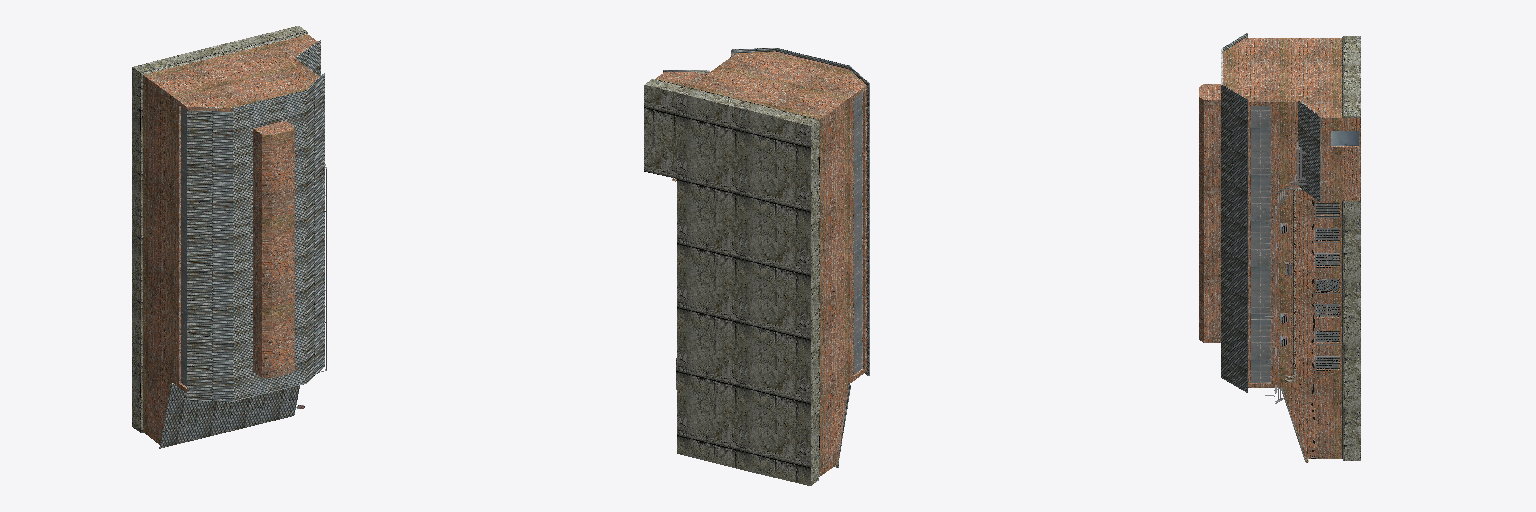
The picture shows the model from 3 angles: view 1: azimuth 30°, elevation 25°; view 2: azimuth 150°, elevation 25°; view 3: azimuth 270°, elevation 25°; orthographic projection.
Visible parts, largest first — view 1: MDL_Box011; view 2: MDL_Box011; view 3: MDL_Box011.
Part boxes in pixels (bbox=[...]): MDL_Box011: bbox=[132, 26, 326, 448]; MDL_Box011: bbox=[644, 48, 869, 485]; MDL_Box011: bbox=[1199, 33, 1360, 462].
Size of the model in its own units: 24.5 by 50.02 by 20.3.
13 materials, 11 textured.